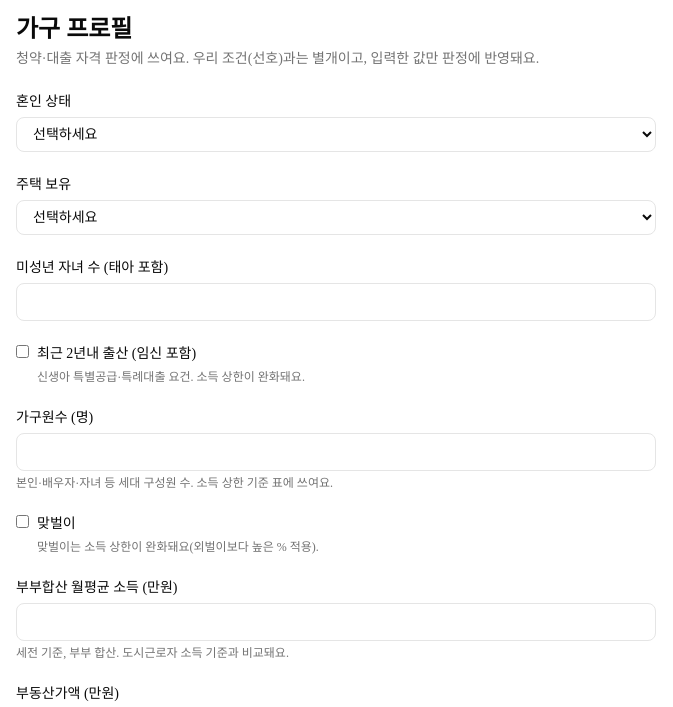
Scenario: ProfileFeature › 사실혼 선택 시 안내 문구를 보여준다
The image size is (673, 707).
Select "사실혼 · 동거(미신고)" in the dropdown labelled "혼인 상태" at (336, 134), box left=16, top=117, right=656, bottom=152
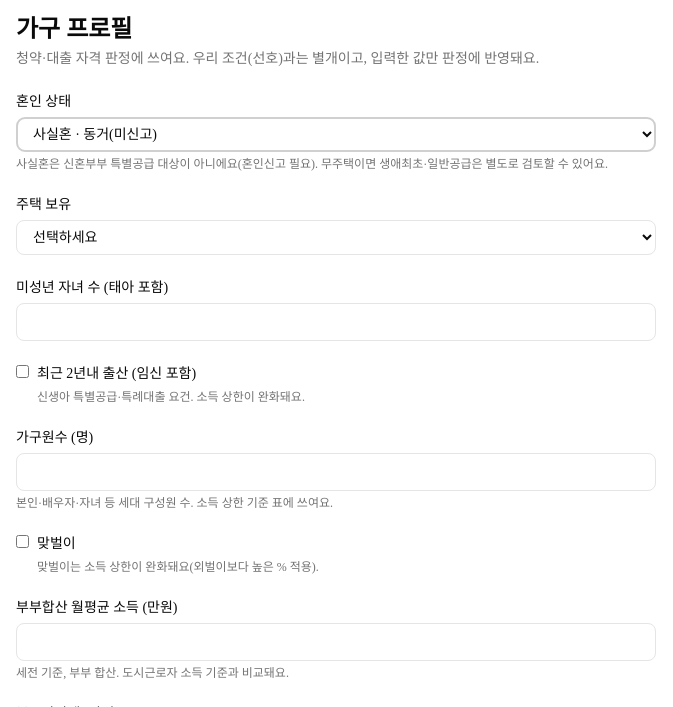
Now the text "사실혼은 신혼부부 특별공급 대상이 아니에요" is shown, box left=16, top=157, right=608, bottom=171
